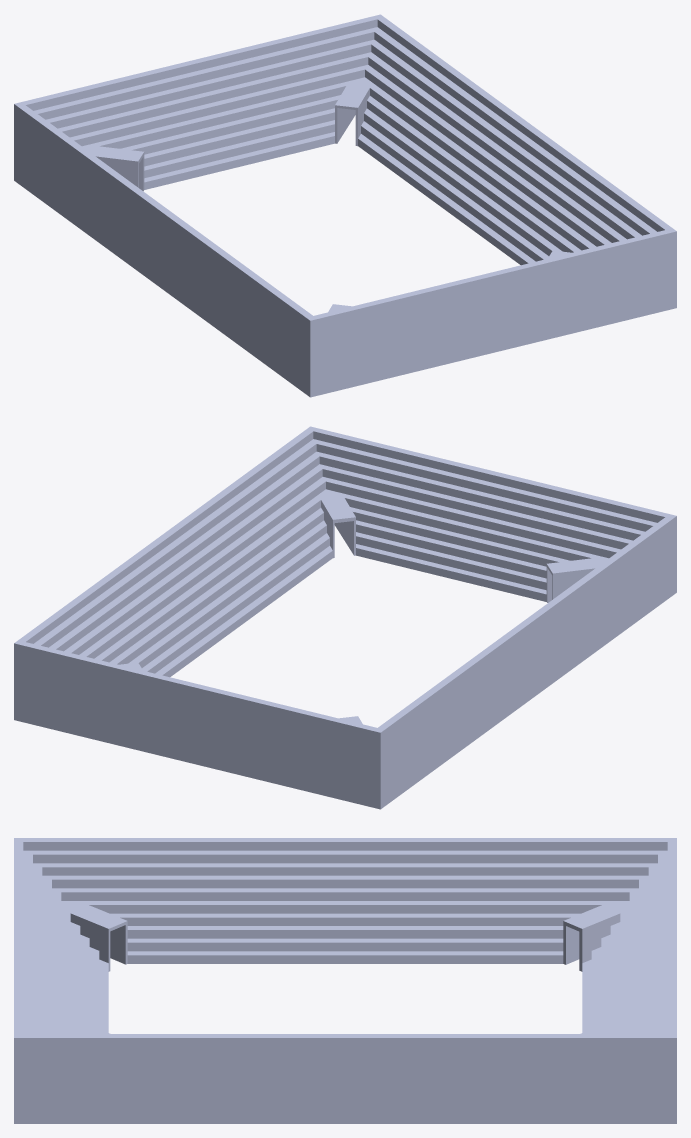
Rendered from gradin.fbx.
3 views of the same model, one above another, from view 1: azimuth 30°, elevation 25°; view 2: azimuth 150°, elevation 25°; view 3: azimuth 270°, elevation 25° (orthographic). The views are drawn at different scales.
Visible parts, largest first — view 1: Body_1; view 2: Body_1; view 3: Body_1.
Boxes of the visible parts, x1,y1,x2,y2 form: Body_1: (14,14,676,397); Body_1: (14,426,676,809); Body_1: (14,838,676,1123).
Size of the model in its own units: 25 by 35 by 5.
